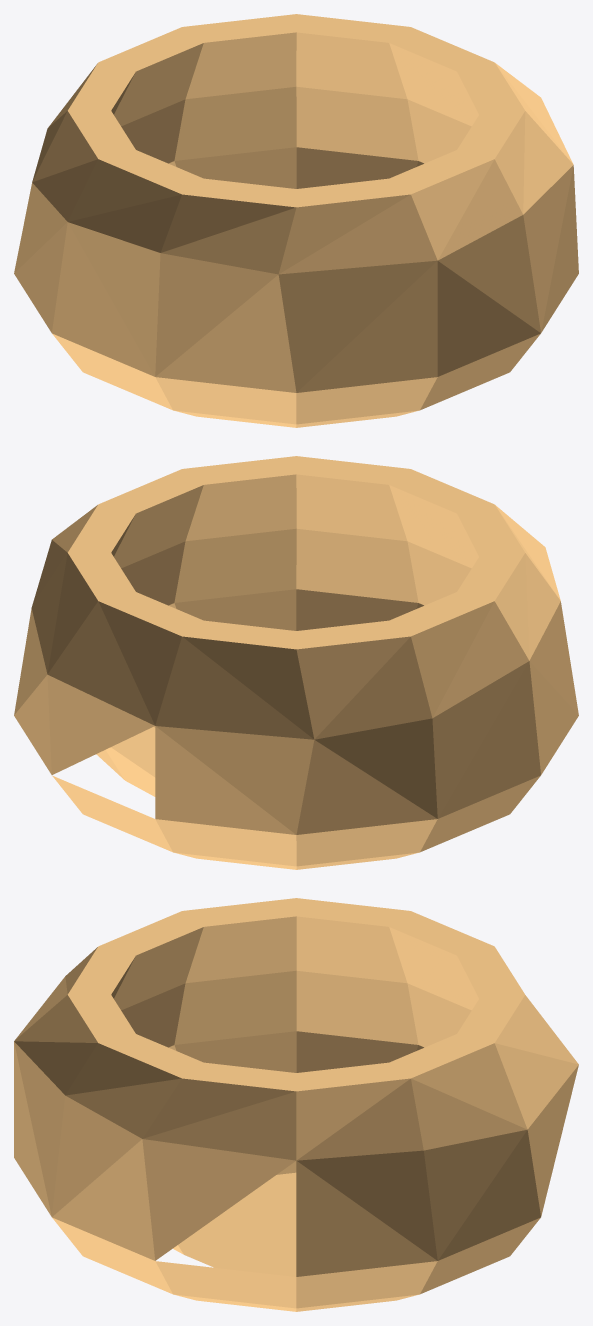
The model's file is bowlDecorative.glb.
3 views of the same model, one above another, from view 1: azimuth 30°, elevation 25°; view 2: azimuth 150°, elevation 25°; view 3: azimuth 270°, elevation 25° (orthographic).
Parts seen in each view (by area): view 1: Node; view 2: Node; view 3: Node.
Part boxes in pixels (x1,y1,x2,y2): Node: [14, 14, 578, 427]; Node: [14, 456, 578, 869]; Node: [14, 898, 578, 1311].
Size of the model in its own units: 0.22 by 0.11 by 0.22.
